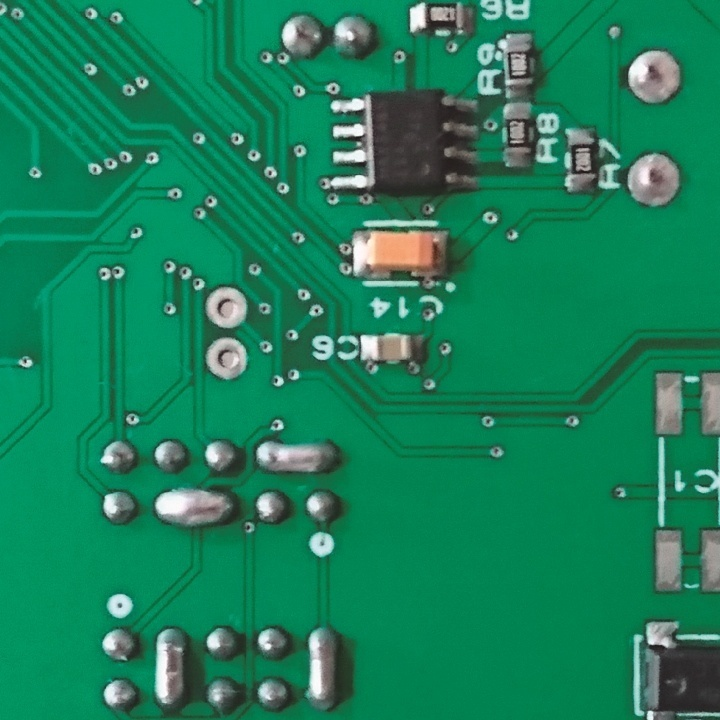F: (625, 47, 684, 112), (624, 149, 684, 212), (202, 335, 250, 383), (204, 286, 250, 331)
P: (150, 484, 237, 532), (254, 438, 344, 480), (150, 624, 188, 712), (304, 623, 341, 712)
